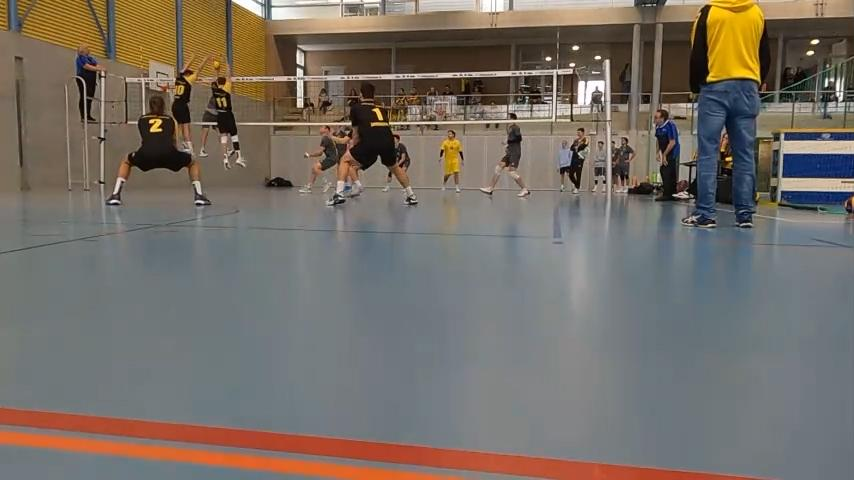attacco: (199, 71, 222, 155)
muro: (200, 61, 246, 170), (165, 54, 207, 161)
